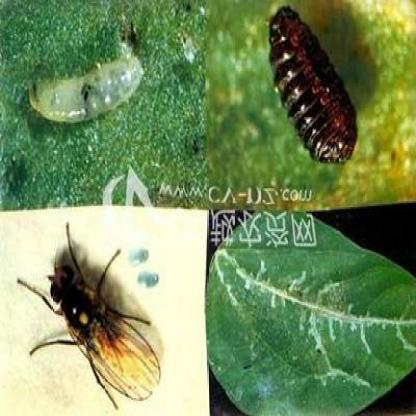whorl-maggot: (260, 3, 370, 169), (22, 50, 152, 130)
